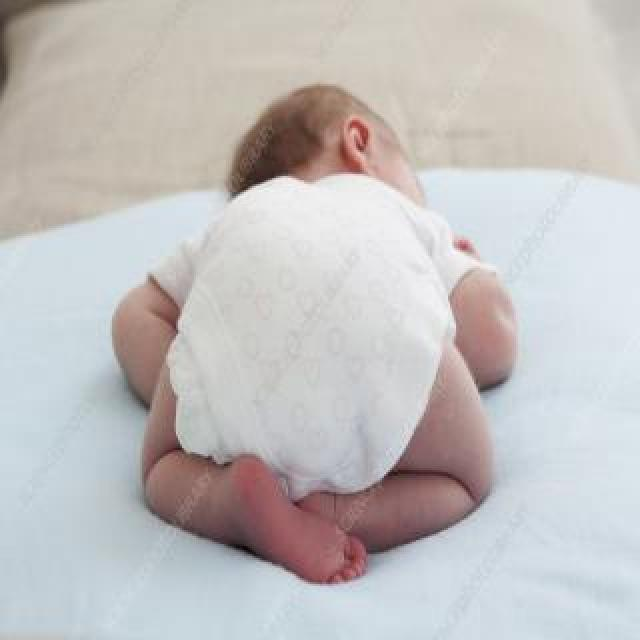baby: (105, 79, 521, 587)
